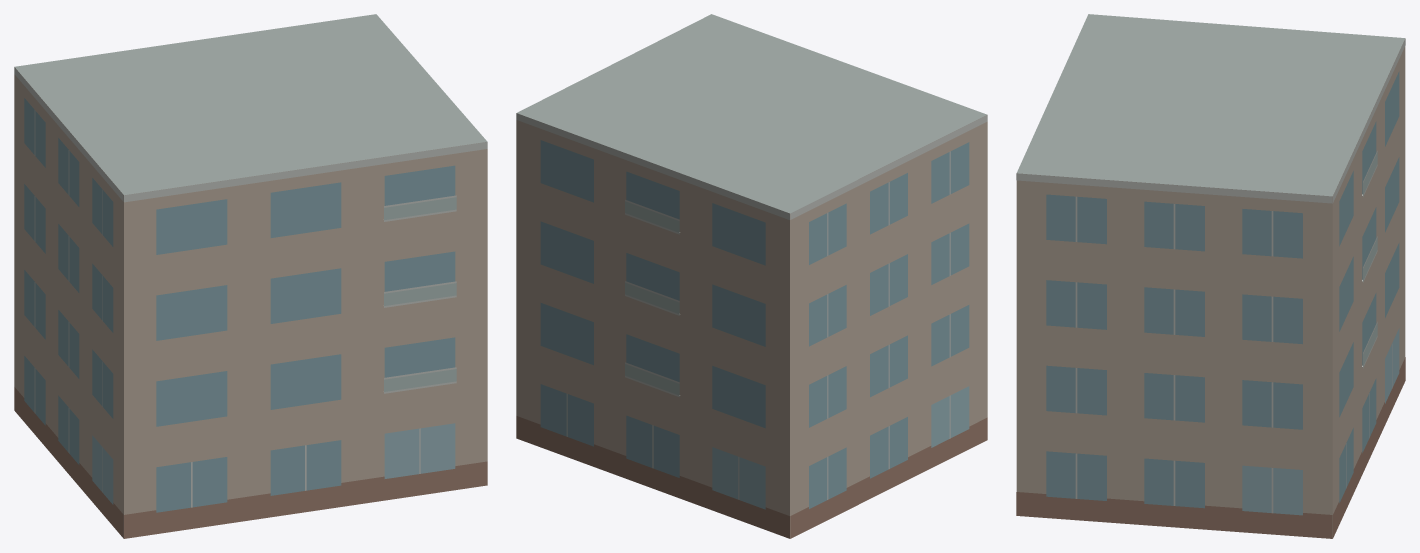
The model's file is survey-upis-32536623.glb.
3 views of the same model, side by side, from view 1: azimuth 30°, elevation 25°; view 2: azimuth 150°, elevation 25°; view 3: azimuth 270°, elevation 25° (orthographic). The views are drawn at different scales.
Parts seen in each view (by area): view 1: survey-upis-32536623.tmp; view 2: survey-upis-32536623.tmp; view 3: survey-upis-32536623.tmp.
Part boxes in pixels (x1,y1,x2,y2): survey-upis-32536623.tmp: (14,14,487,538); survey-upis-32536623.tmp: (516,14,987,538); survey-upis-32536623.tmp: (1016,14,1405,538).
Size of the model in its own units: 13.37 by 11.7 by 12.06.
